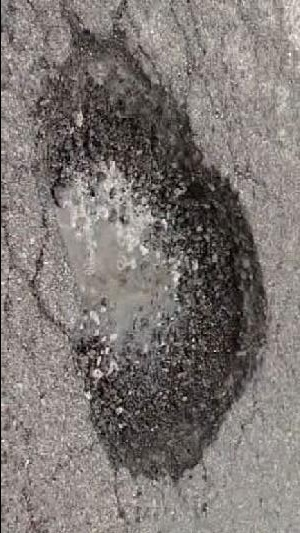pothole: (29, 21, 275, 489)
